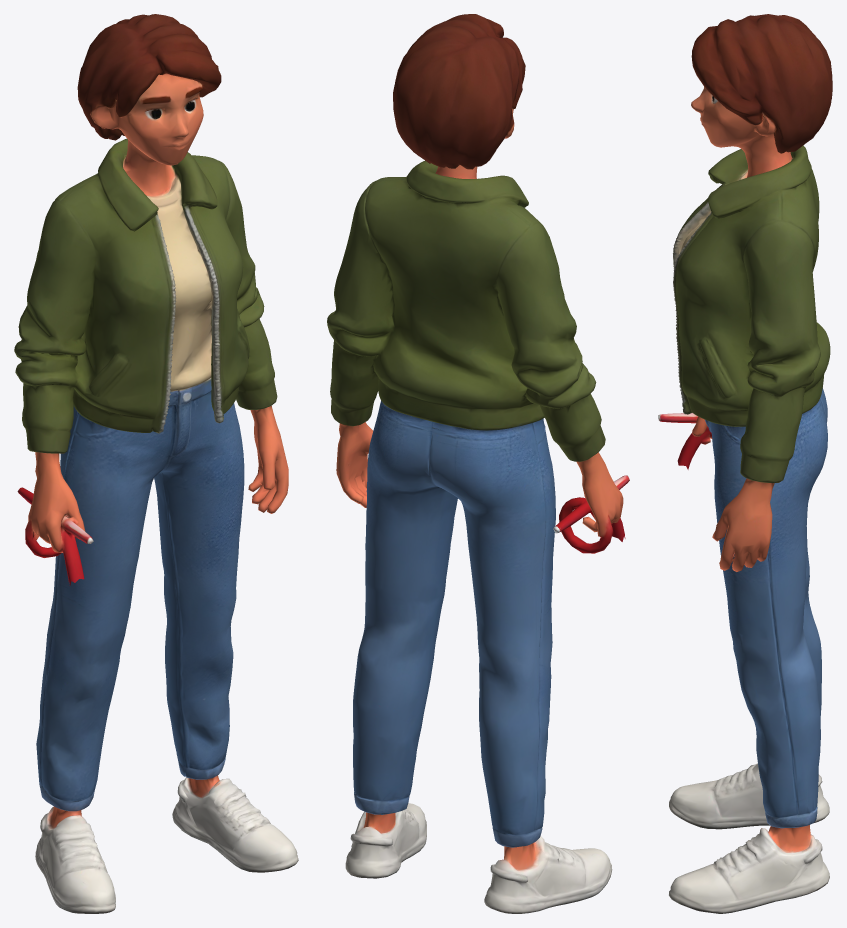
Rendered from owner.glb.
The picture shows the model from 3 angles, left to right: view 1: azimuth 30°, elevation 25°; view 2: azimuth 150°, elevation 25°; view 3: azimuth 270°, elevation 25°; orthographic projection.
Parts seen in each view (by area): view 1: tripo_node_032f25a5-fa20-4845-afab-15d3f9eb2566; view 2: tripo_node_032f25a5-fa20-4845-afab-15d3f9eb2566; view 3: tripo_node_032f25a5-fa20-4845-afab-15d3f9eb2566.
Part boxes in pixels (x1,y1,x2,y2): tripo_node_032f25a5-fa20-4845-afab-15d3f9eb2566: [14, 14, 298, 913]; tripo_node_032f25a5-fa20-4845-afab-15d3f9eb2566: [327, 14, 629, 913]; tripo_node_032f25a5-fa20-4845-afab-15d3f9eb2566: [658, 14, 832, 913].
Size of the model in its own units: 0.5418 by 1.68 by 0.3146.
Materials: 1 (1 with a texture image).
